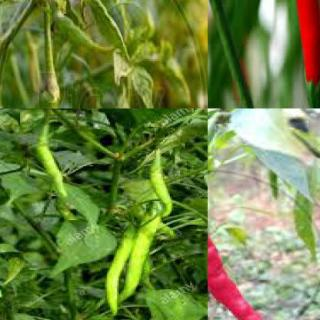green_chilli: (34, 126, 81, 224), (117, 219, 168, 303), (105, 222, 134, 316), (146, 148, 175, 219), (0, 206, 12, 302)
